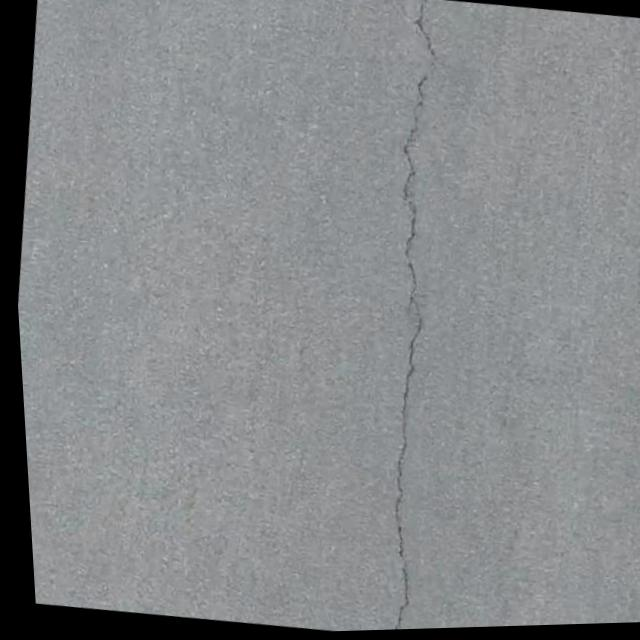Crack: (308, 0, 497, 633)
